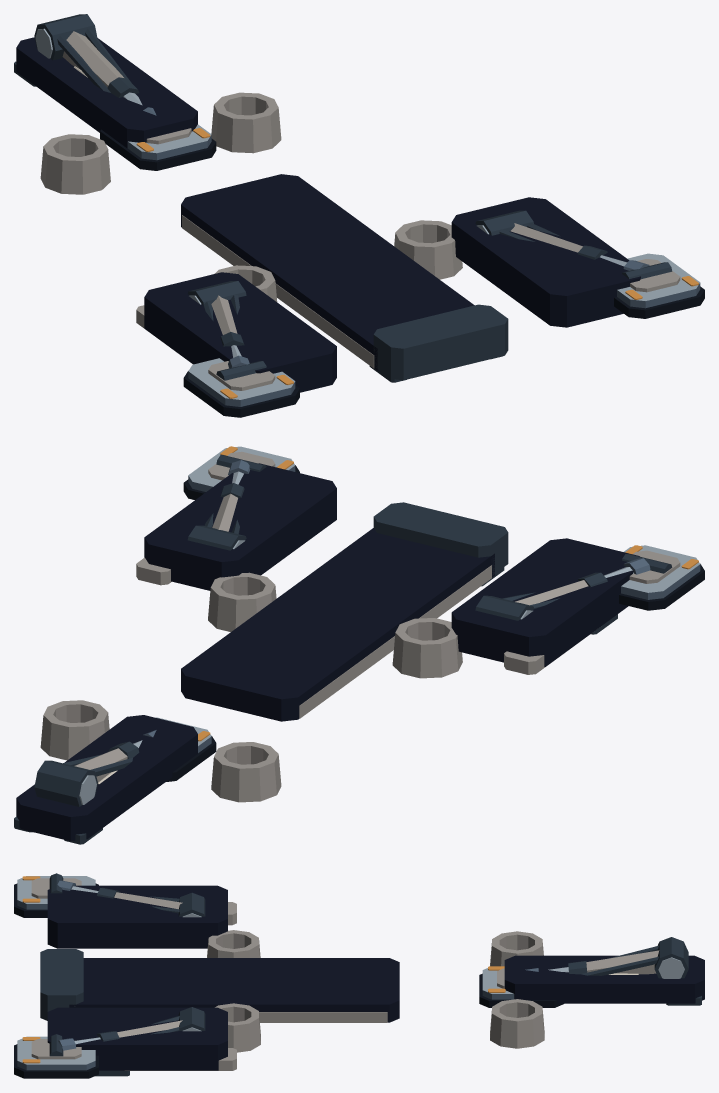
Rendered from aurora-surface-kit-v1.glb.
3 views of the same model, one above another, from view 1: azimuth 30°, elevation 25°; view 2: azimuth 150°, elevation 25°; view 3: azimuth 270°, elevation 25° (orthographic). The views are drawn at different scales.
Parts seen in each view (by area): view 1: SURFACE_KIT_FIXED_HARDWARE, SURFACE_KIT_GEAR_PORT_PAD, SURFACE_KIT_GEAR_NOSE_STRUT, SURFACE_KIT_GEAR_STARBOARD_PAD, SURFACE_KIT_GEAR_NOSE_PAD, SURFACE_KIT_GEAR_STARBOARD_STRUT, SURFACE_KIT_GEAR_PORT_STRUT; view 2: SURFACE_KIT_FIXED_HARDWARE, SURFACE_KIT_GEAR_PORT_PAD, SURFACE_KIT_GEAR_NOSE_STRUT, SURFACE_KIT_GEAR_PORT_STRUT, SURFACE_KIT_GEAR_STARBOARD_PAD, SURFACE_KIT_GEAR_STARBOARD_STRUT, SURFACE_KIT_GEAR_NOSE_PAD; view 3: SURFACE_KIT_FIXED_HARDWARE, SURFACE_KIT_GEAR_STARBOARD_PAD, SURFACE_KIT_GEAR_NOSE_STRUT, SURFACE_KIT_GEAR_PORT_PAD, SURFACE_KIT_GEAR_STARBOARD_STRUT, SURFACE_KIT_GEAR_PORT_STRUT, SURFACE_KIT_GEAR_NOSE_PAD.
Boxes of the visible parts, x1=… form: SURFACE_KIT_FIXED_HARDWARE: x1=14, y1=37, x2=640, y2=392; SURFACE_KIT_GEAR_PORT_PAD: x1=183, y1=358, x2=299, y2=417; SURFACE_KIT_GEAR_NOSE_STRUT: x1=34, y1=14, x2=156, y2=115; SURFACE_KIT_GEAR_STARBOARD_PAD: x1=614, y1=253, x2=704, y2=318; SURFACE_KIT_GEAR_NOSE_PAD: x1=100, y1=124, x2=216, y2=170; SURFACE_KIT_GEAR_STARBOARD_STRUT: x1=475, y1=210, x2=649, y2=270; SURFACE_KIT_GEAR_PORT_STRUT: x1=187, y1=281, x2=249, y2=368; SURFACE_KIT_FIXED_HARDWARE: x1=14, y1=463, x2=639, y2=844; SURFACE_KIT_GEAR_PORT_PAD: x1=619, y1=545, x2=704, y2=610; SURFACE_KIT_GEAR_NOSE_STRUT: x1=34, y1=730, x2=156, y2=806; SURFACE_KIT_GEAR_PORT_STRUT: x1=475, y1=558, x2=650, y2=620; SURFACE_KIT_GEAR_STARBOARD_PAD: x1=183, y1=446, x2=299, y2=499; SURFACE_KIT_GEAR_STARBOARD_STRUT: x1=187, y1=460, x2=249, y2=550; SURFACE_KIT_GEAR_NOSE_PAD: x1=156, y1=717, x2=216, y2=781; SURFACE_KIT_FIXED_HARDWARE: x1=40, y1=885, x2=704, y2=1076; SURFACE_KIT_GEAR_STARBOARD_PAD: x1=14, y1=1034, x2=98, y2=1078; SURFACE_KIT_GEAR_NOSE_STRUT: x1=525, y1=937, x2=688, y2=978; SURFACE_KIT_GEAR_PORT_PAD: x1=14, y1=873, x2=98, y2=917; SURFACE_KIT_GEAR_STARBOARD_STRUT: x1=58, y1=1007, x2=205, y2=1050; SURFACE_KIT_GEAR_PORT_STRUT: x1=57, y1=880, x2=205, y2=917; SURFACE_KIT_GEAR_NOSE_PAD: x1=479, y1=966, x2=563, y2=1007.
Size of what is drawn, in the model's own units: 5.42 by 0.78 by 8.29.
